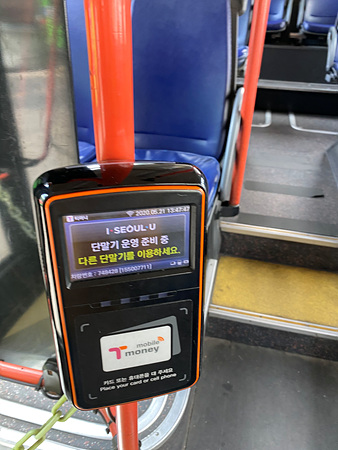terminal: (37, 170, 201, 399)
